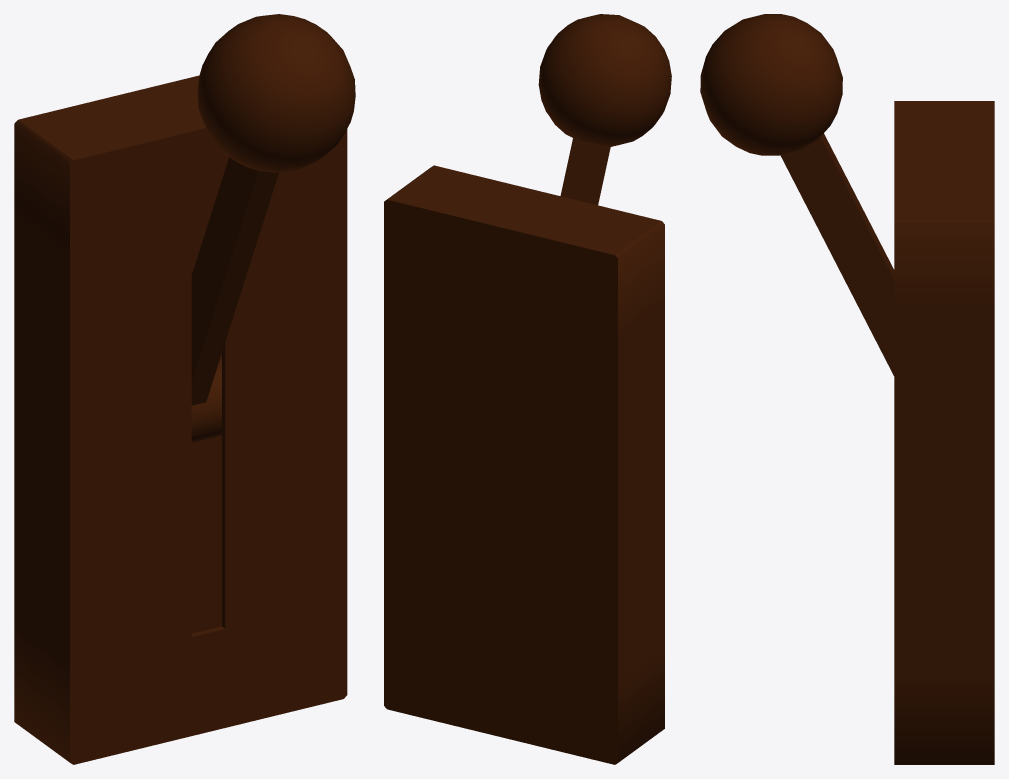
File: lever.glb
3 views of the same model, side by side, from view 1: azimuth 30°, elevation 25°; view 2: azimuth 150°, elevation 25°; view 3: azimuth 270°, elevation 25° (orthographic). The views are drawn at different scales.
Parts seen in each view (by area): view 1: Lever; view 2: Lever; view 3: Lever.
Part boxes in pixels (x1,y1,x2,y2): Lever: (14, 14, 355, 764); Lever: (384, 14, 671, 764); Lever: (700, 14, 994, 764).
Size of the model in its own units: 0.1153 by 0.3017 by 0.1174.
